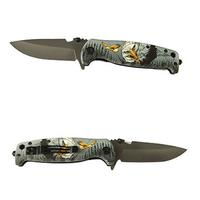knife: (7, 29, 186, 78), (7, 132, 191, 173)
